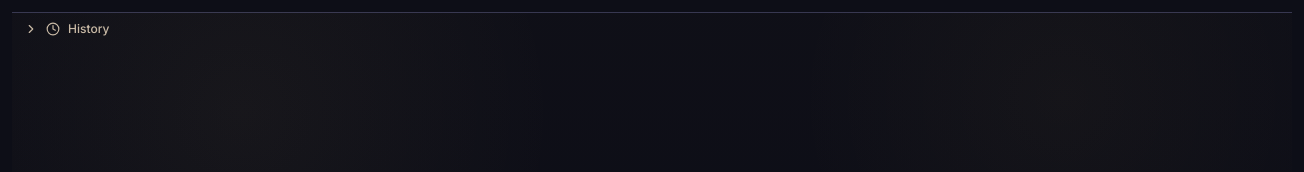
Test: EntityHistoryPanel — empty state › shows no activity message when events are empty
Click the button "History" at (89, 28), box [12,13,1292,45]
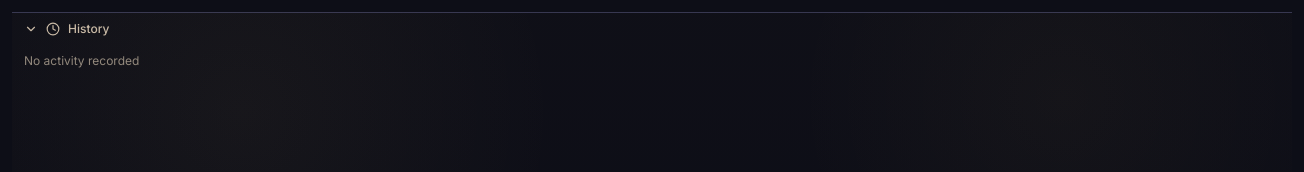
Expected: the text "No activity recorded" is shown, [24,53,139,68]
